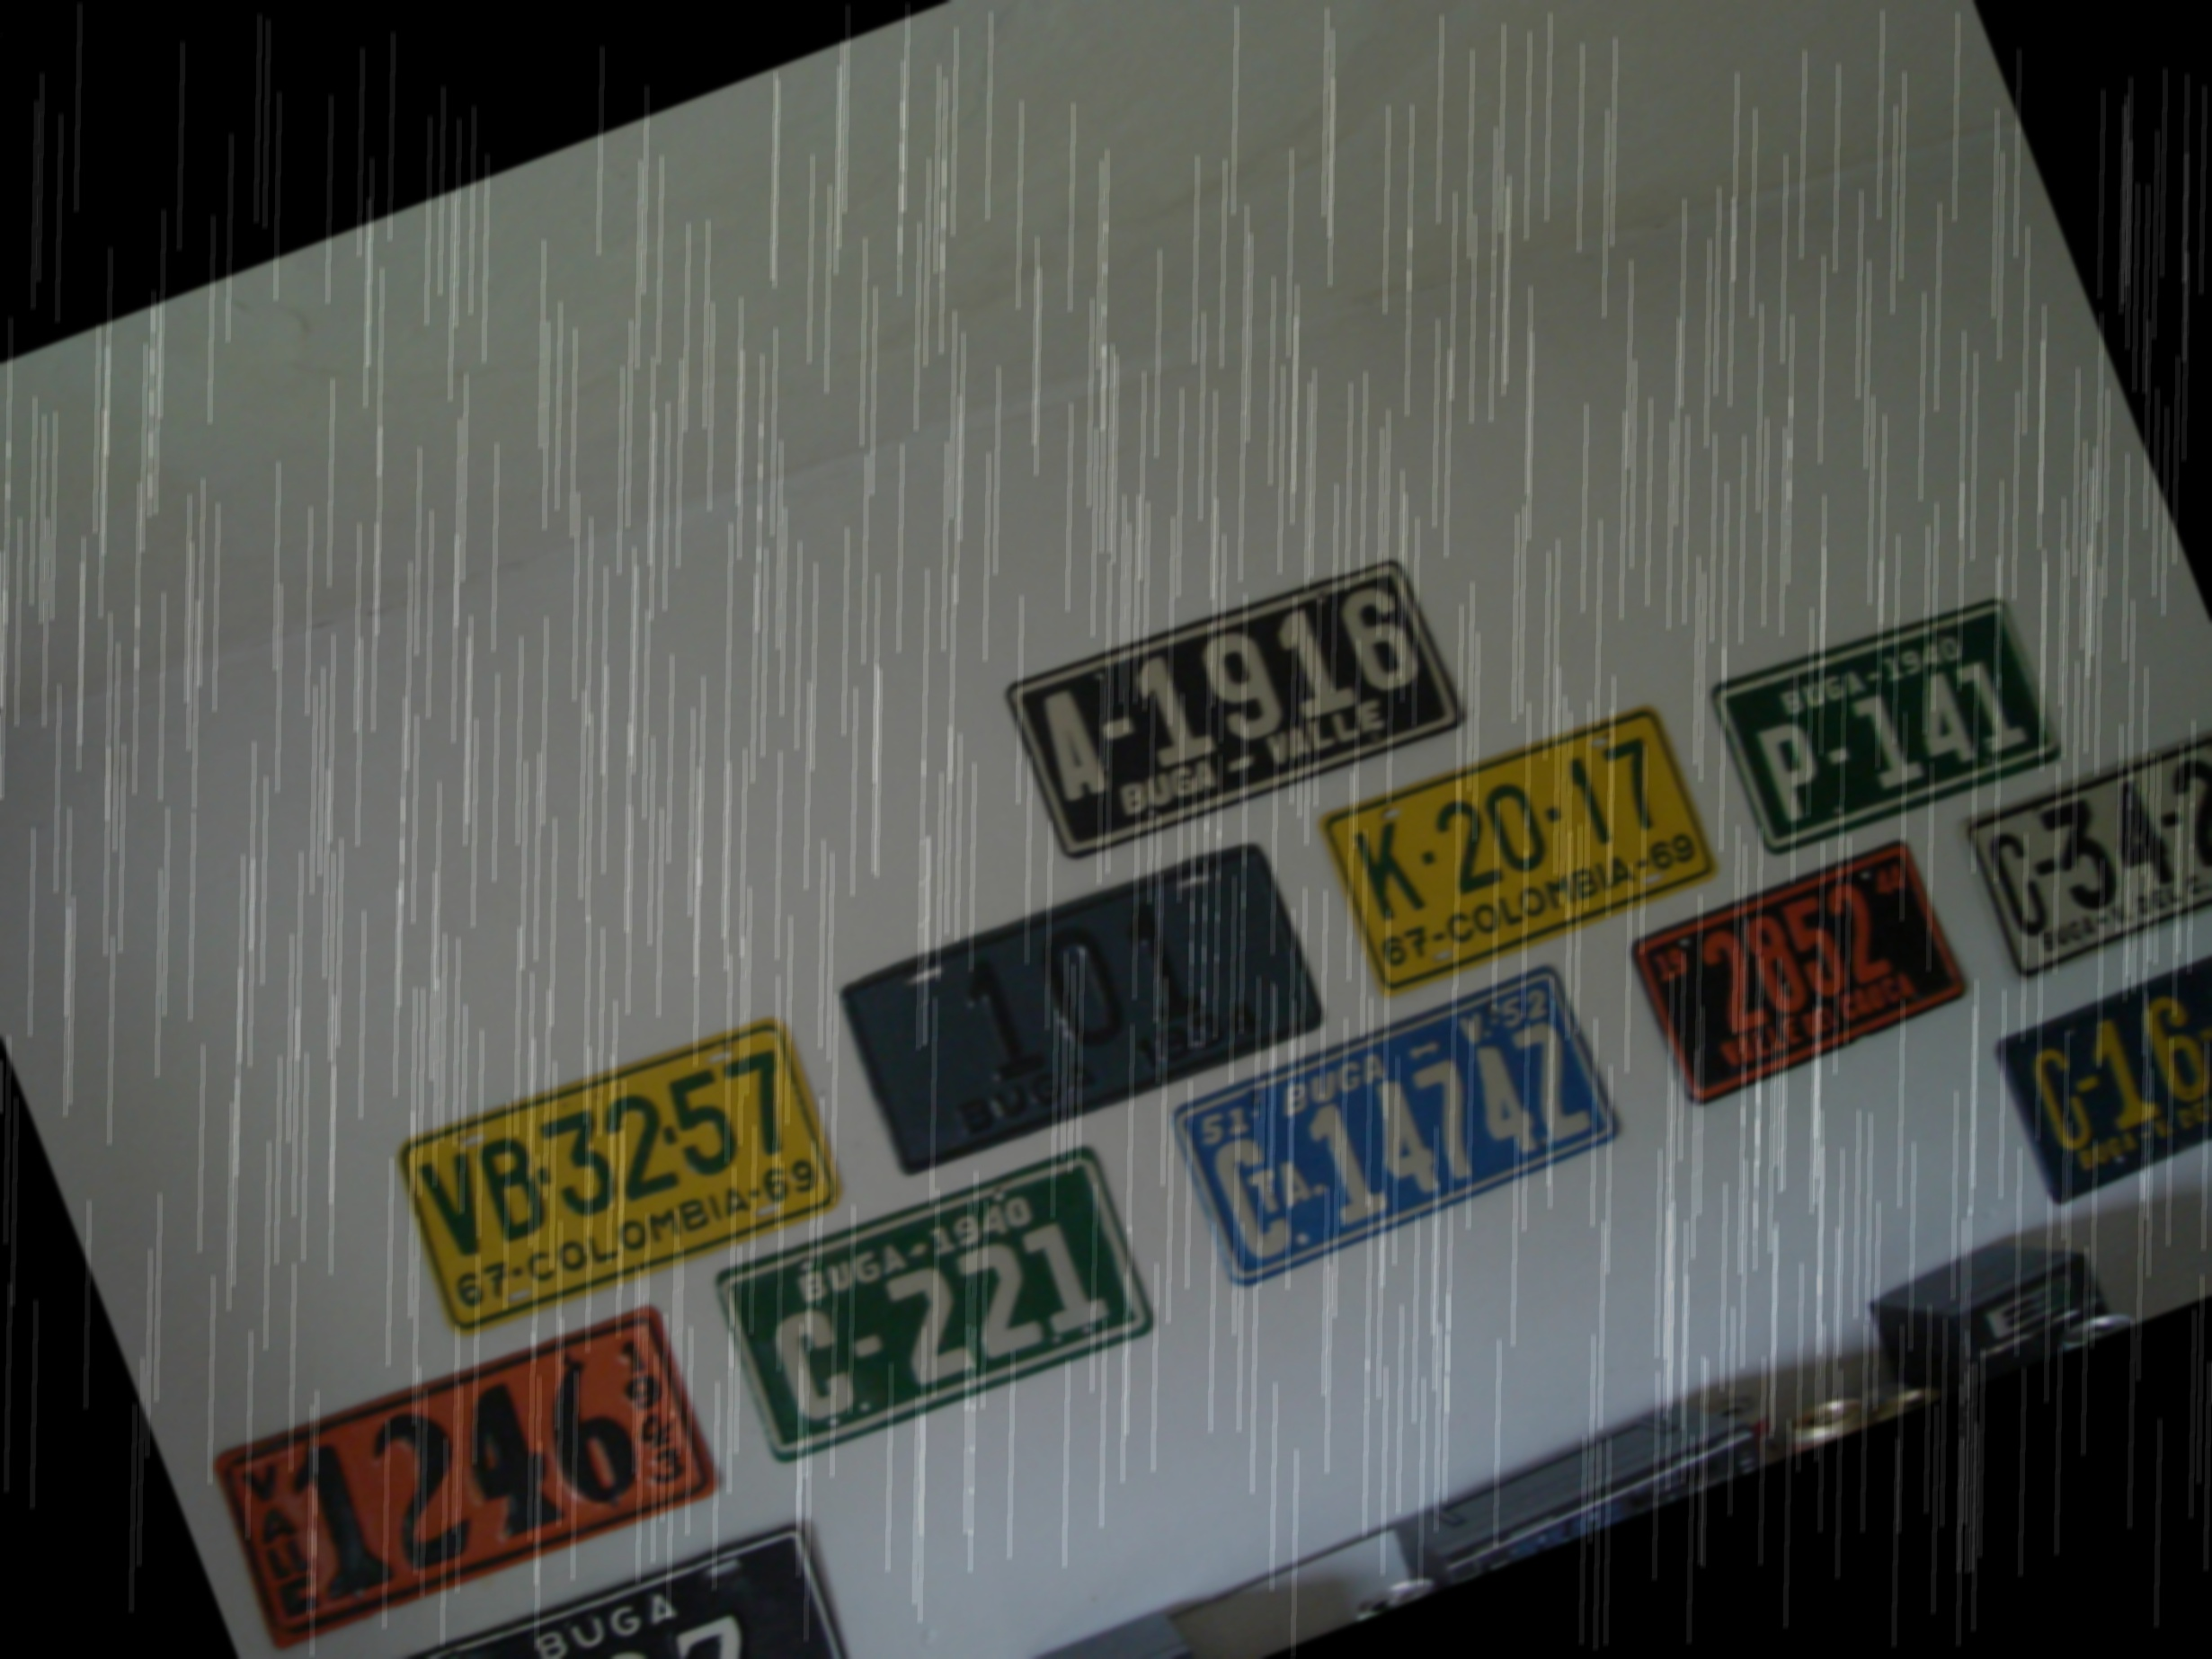placas: (182, 1273, 741, 1659), (821, 812, 1343, 1199), (369, 986, 863, 1362), (986, 519, 1484, 891), (1294, 678, 1736, 1018), (1692, 554, 2081, 878), (1611, 821, 1991, 1122), (307, 1478, 888, 1659), (1944, 707, 2212, 1001), (1977, 909, 2212, 1228)
